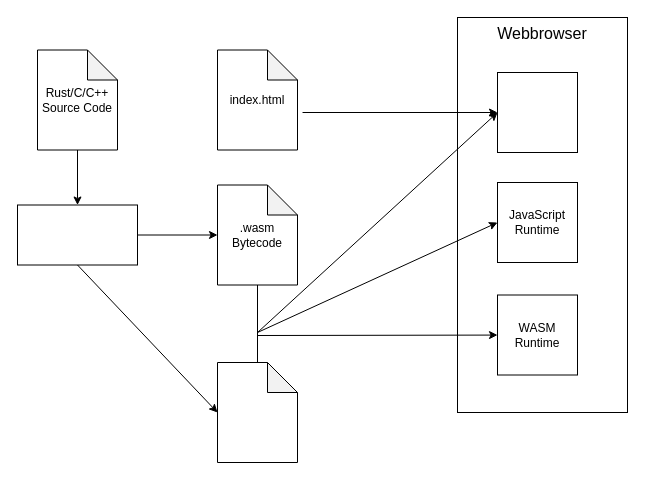
Image size: 645x480. Some labels were removed from this diagram. Each missing label, with the centre of its shape:
Compiler: point (77, 234)
DOM: point (537, 112)
JS Gluecode: point (257, 412)
